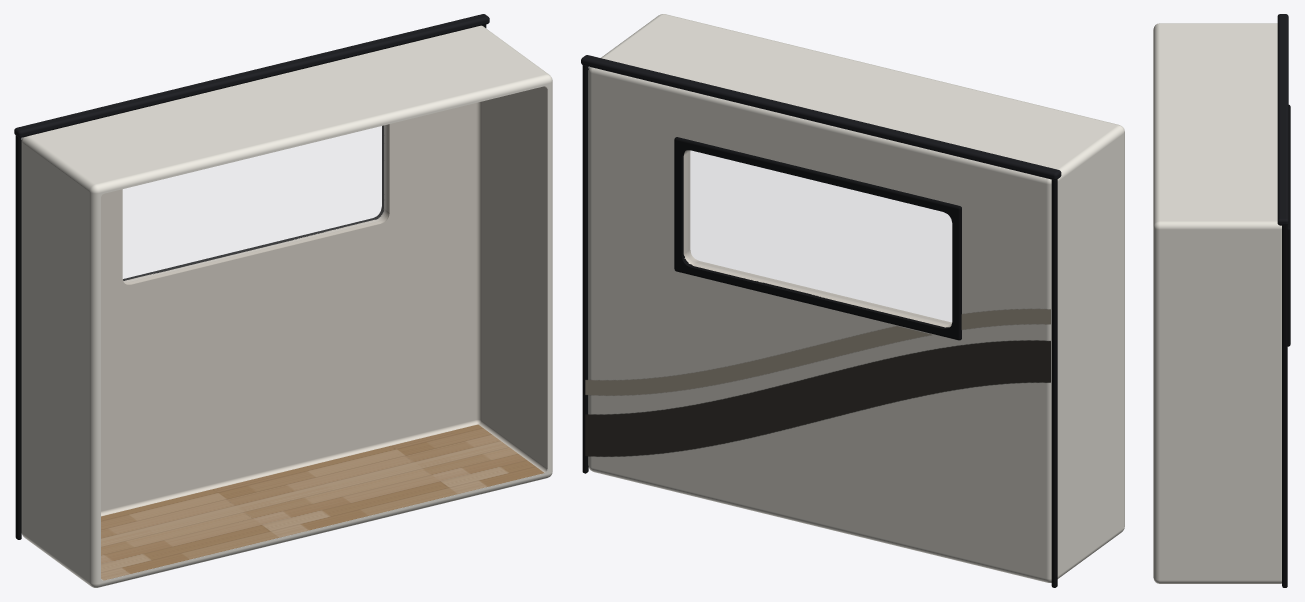
File: vc2caravan_slideout_side.glb
3 renders of one model, left to right at view 1: azimuth 30°, elevation 25°; view 2: azimuth 150°, elevation 25°; view 3: azimuth 270°, elevation 25°, orthographic. The views are drawn at different scales.
Parts seen in each view (by area): view 1: slideout_side_box, slideout_side_floor, slideout_side_window, slideout_side_gutter, slideout_side_seal, slideout_side_window_frame; view 2: slideout_side_box, slideout_side_window, slideout_side_livery, slideout_side_window_frame, slideout_side_gutter, slideout_side_seal (×2); view 3: slideout_side_box, slideout_side_gutter, slideout_side_seal, slideout_side_window_frame.
Boxes of the visible parts, x1,y1,x2,y2 form: slideout_side_box: (21, 25, 552, 587); slideout_side_floor: (101, 424, 543, 580); slideout_side_window: (123, 125, 386, 282); slideout_side_gutter: (14, 14, 489, 137); slideout_side_seal: (15, 135, 21, 539); slideout_side_window_frame: (123, 125, 383, 280); slideout_side_box: (588, 14, 1124, 582); slideout_side_window: (686, 150, 951, 325); slideout_side_livery: (585, 308, 1050, 456); slideout_side_window_frame: (674, 137, 961, 340); slideout_side_gutter: (581, 55, 1061, 180); slideout_side_seal (×2): (582, 65, 1057, 587); slideout_side_box: (1153, 23, 1281, 583); slideout_side_gutter: (1277, 14, 1288, 225); slideout_side_seal: (1282, 225, 1287, 587); slideout_side_window_frame: (1287, 105, 1290, 346).
Size of the model in its own units: 2.64 by 2.2 by 0.7405.
8 materials, 2 textured.
